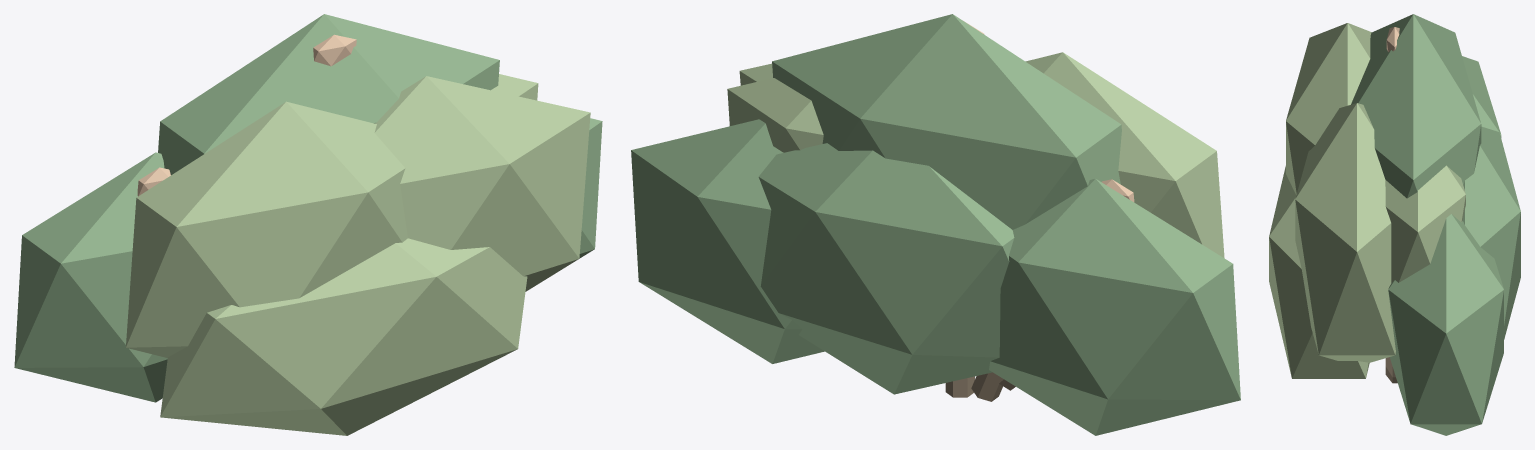
The model's file is SHRUB_COASTAL_LOW_001_v002_LOD_CLOSE.glb.
The picture shows the model from 3 angles, left to right: view 1: azimuth 30°, elevation 25°; view 2: azimuth 150°, elevation 25°; view 3: azimuth 270°, elevation 25°; orthographic projection. The views are drawn at different scales.
Visible parts, largest first — view 1: SHRUB_COASTAL_LOW_001_LOD_CLOSE_CLUSTER_006, SHRUB_COASTAL_LOW_001_LOD_CLOSE_CLUSTER_002, SHRUB_COASTAL_LOW_001_LOD_CLOSE_CLUSTER_004, SHRUB_COASTAL_LOW_001_LOD_CLOSE_CLUSTER_001, SHRUB_COASTAL_LOW_001_LOD_CLOSE_CLUSTER_003, SHRUB_COASTAL_LOW_001_LOD_CLOSE_CLUSTER_005, SHRUB_COASTAL_LOW_001_LOD_CLOSE_FLOWER_003, SHRUB_COASTAL_LOW_001_LOD_CLOSE_CLUSTER_008; view 2: SHRUB_COASTAL_LOW_001_LOD_CLOSE_CLUSTER_007, SHRUB_COASTAL_LOW_001_LOD_CLOSE_CLUSTER_001, SHRUB_COASTAL_LOW_001_LOD_CLOSE_CLUSTER_003, SHRUB_COASTAL_LOW_001_LOD_CLOSE_CLUSTER_005, SHRUB_COASTAL_LOW_001_LOD_CLOSE_CLUSTER_002, SHRUB_COASTAL_LOW_001_LOD_CLOSE_CLUSTER_008, SHRUB_COASTAL_LOW_001_LOD_CLOSE_BRANCH_002; view 3: SHRUB_COASTAL_LOW_001_LOD_CLOSE_CLUSTER_004, SHRUB_COASTAL_LOW_001_LOD_CLOSE_CLUSTER_005, SHRUB_COASTAL_LOW_001_LOD_CLOSE_CLUSTER_003, SHRUB_COASTAL_LOW_001_LOD_CLOSE_CLUSTER_002, SHRUB_COASTAL_LOW_001_LOD_CLOSE_CLUSTER_006, SHRUB_COASTAL_LOW_001_LOD_CLOSE_CLUSTER_007, SHRUB_COASTAL_LOW_001_LOD_CLOSE_CLUSTER_008, SHRUB_COASTAL_LOW_001_LOD_CLOSE_CLUSTER_001, SHRUB_COASTAL_LOW_001_LOD_CLOSE_FLOWER_003.
Boxes of the visible parts, x1,y1,x2,y2 form: SHRUB_COASTAL_LOW_001_LOD_CLOSE_CLUSTER_006: (160,238,527,435); SHRUB_COASTAL_LOW_001_LOD_CLOSE_CLUSTER_002: (126,101,407,357); SHRUB_COASTAL_LOW_001_LOD_CLOSE_CLUSTER_004: (374,76,590,291); SHRUB_COASTAL_LOW_001_LOD_CLOSE_CLUSTER_001: (14,152,167,402); SHRUB_COASTAL_LOW_001_LOD_CLOSE_CLUSTER_003: (158,14,499,174); SHRUB_COASTAL_LOW_001_LOD_CLOSE_CLUSTER_005: (579,118,602,258); SHRUB_COASTAL_LOW_001_LOD_CLOSE_FLOWER_003: (313,34,356,66); SHRUB_COASTAL_LOW_001_LOD_CLOSE_CLUSTER_008: (491,74,538,100); SHRUB_COASTAL_LOW_001_LOD_CLOSE_CLUSTER_007: (758,143,1014,394); SHRUB_COASTAL_LOW_001_LOD_CLOSE_CLUSTER_001: (989,178,1240,435); SHRUB_COASTAL_LOW_001_LOD_CLOSE_CLUSTER_003: (772,14,1121,229); SHRUB_COASTAL_LOW_001_LOD_CLOSE_CLUSTER_005: (631,119,824,363); SHRUB_COASTAL_LOW_001_LOD_CLOSE_CLUSTER_002: (1025,52,1224,258); SHRUB_COASTAL_LOW_001_LOD_CLOSE_CLUSTER_008: (727,78,823,152); SHRUB_COASTAL_LOW_001_LOD_CLOSE_BRANCH_002: (971,372,1002,401); SHRUB_COASTAL_LOW_001_LOD_CLOSE_CLUSTER_004: (1295,103,1395,362); SHRUB_COASTAL_LOW_001_LOD_CLOSE_CLUSTER_005: (1388,214,1503,435); SHRUB_COASTAL_LOW_001_LOD_CLOSE_CLUSTER_003: (1351,14,1481,198); SHRUB_COASTAL_LOW_001_LOD_CLOSE_CLUSTER_002: (1286,23,1371,194); SHRUB_COASTAL_LOW_001_LOD_CLOSE_CLUSTER_006: (1269,166,1369,378); SHRUB_COASTAL_LOW_001_LOD_CLOSE_CLUSTER_007: (1463,126,1520,339); SHRUB_COASTAL_LOW_001_LOD_CLOSE_CLUSTER_008: (1385,165,1465,282); SHRUB_COASTAL_LOW_001_LOD_CLOSE_CLUSTER_001: (1462,56,1501,137); SHRUB_COASTAL_LOW_001_LOD_CLOSE_FLOWER_003: (1386,27,1399,52).
Size of the model in its own units: 2.77 by 1.76 by 1.07.
